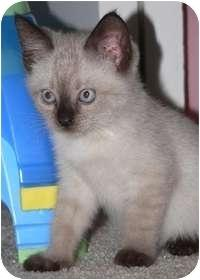siamese: (13, 11, 146, 145)
